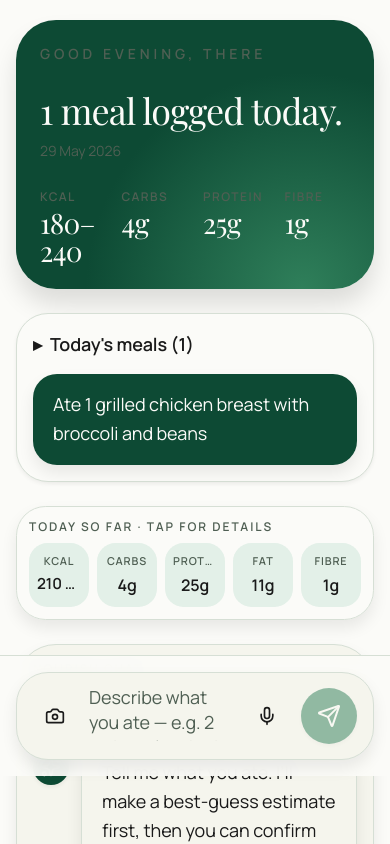
ChatMealLogger › opens a readable daily nutrition sheet from the sticky summary
What coordinates should you click on to do the following:
click the button with aria-label "Open daily nutrition details"
I would click on:
 (195, 563)
Its box is [16,506,374,620].
(page scrolled)
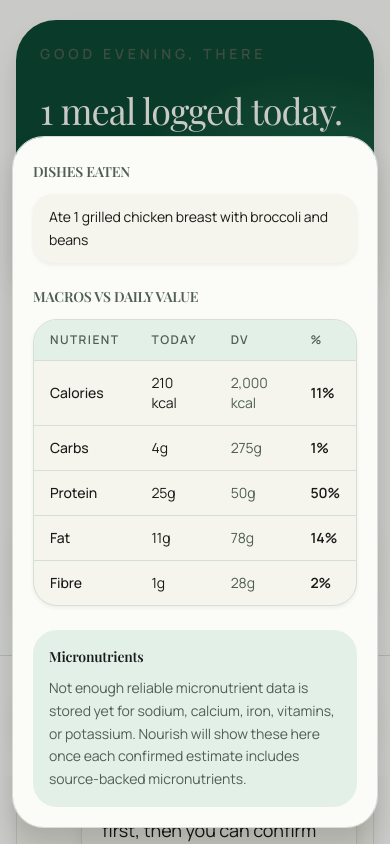
Check: the heading "Dishes eaten" is shown, box [33,162,130,181]
Check: the list item "Ate 1 grilled chicken breast with broccoli and beans" is shown, box [33,194,357,263]
Check: the heading "Macros vs daily value" is shown, box [33,287,198,306]
